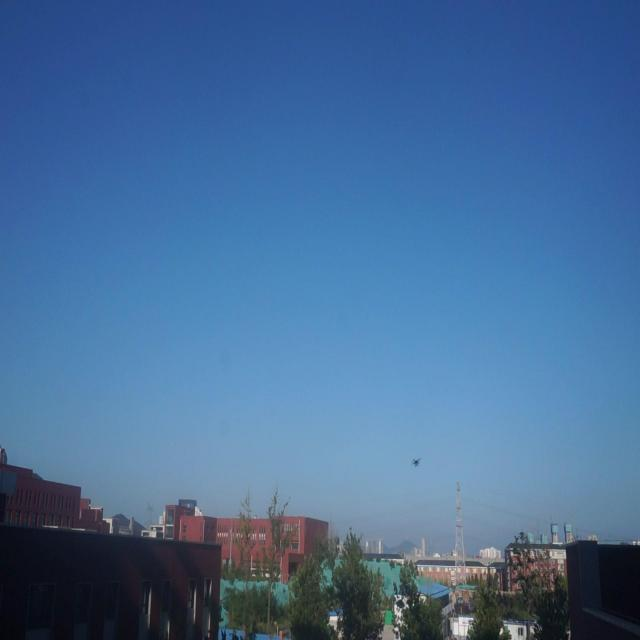UAV: (411, 457, 422, 467)
